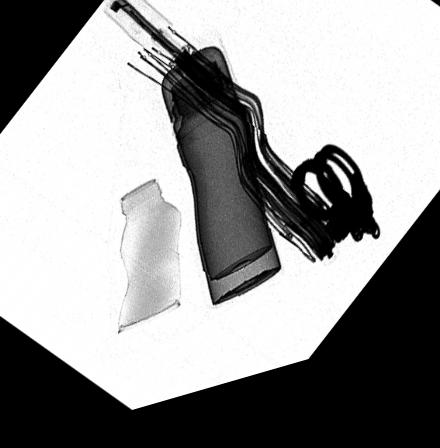HandCuffs: (287, 162, 380, 263)
